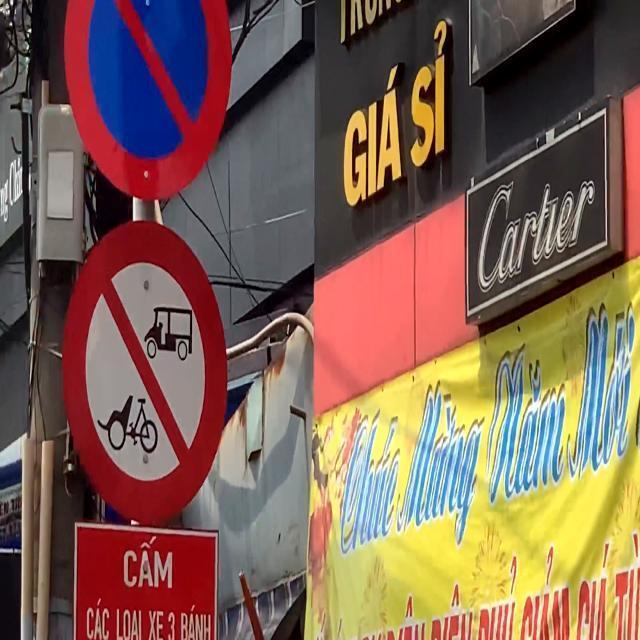131a-cam-do-xe: (57, 0, 237, 196)
